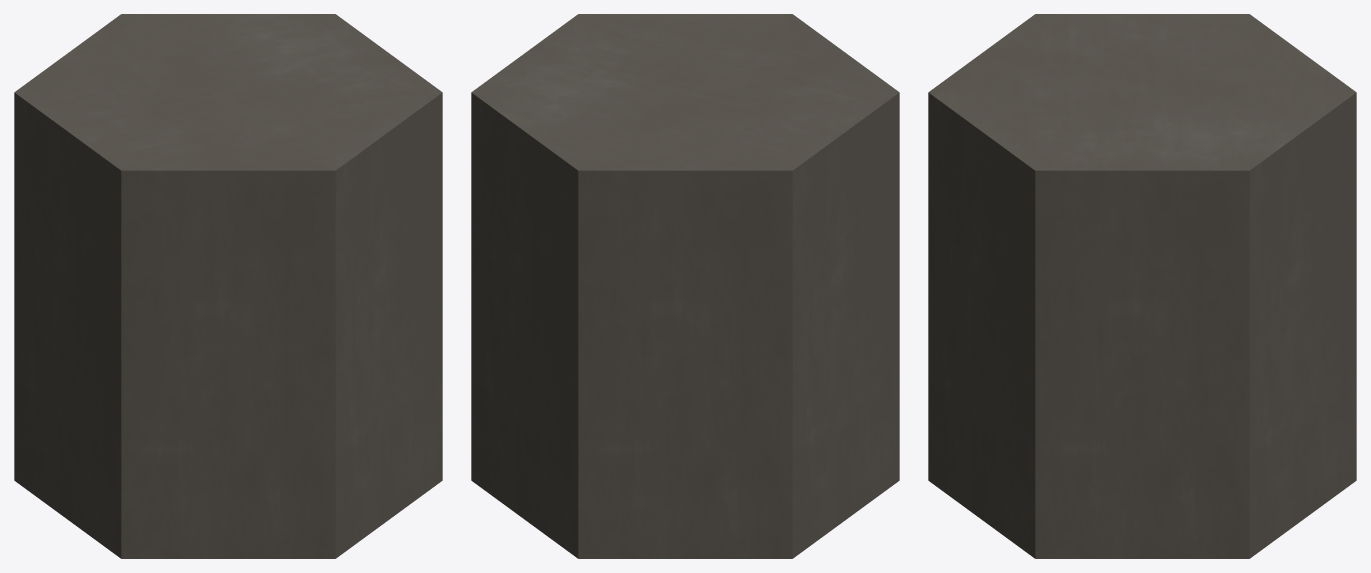
Rendered from SM_Tile_5.fbx.
The picture shows the model from 3 angles, left to right: view 1: azimuth 30°, elevation 25°; view 2: azimuth 150°, elevation 25°; view 3: azimuth 270°, elevation 25°; orthographic projection.
Parts seen in each view (by area): view 1: Cylinder.070; view 2: Cylinder.070; view 3: Cylinder.070.
Boxes of the visible parts, x1=… form: Cylinder.070: x1=14, y1=14, x2=442, y2=558; Cylinder.070: x1=471, y1=14, x2=899, y2=558; Cylinder.070: x1=928, y1=14, x2=1356, y2=558.
Size of the model in its own units: 173 by 200 by 200.
